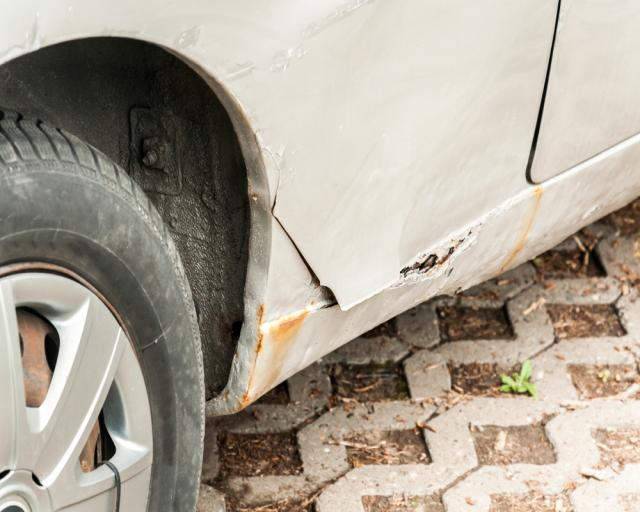crack: (264, 147, 479, 310)
